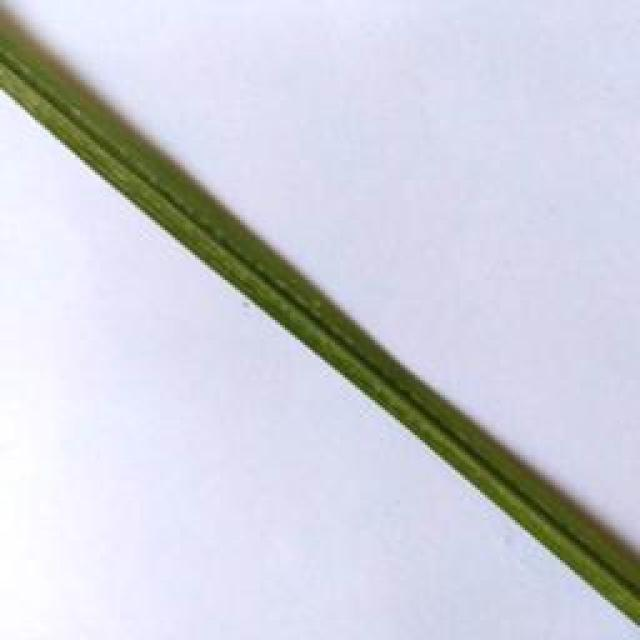Healthy-Plant: (0, 45, 640, 628)
